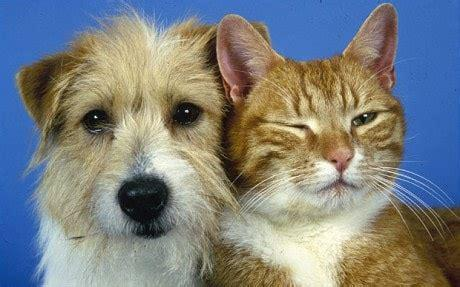cat: (215, 4, 460, 287)
dog: (18, 16, 223, 287)
